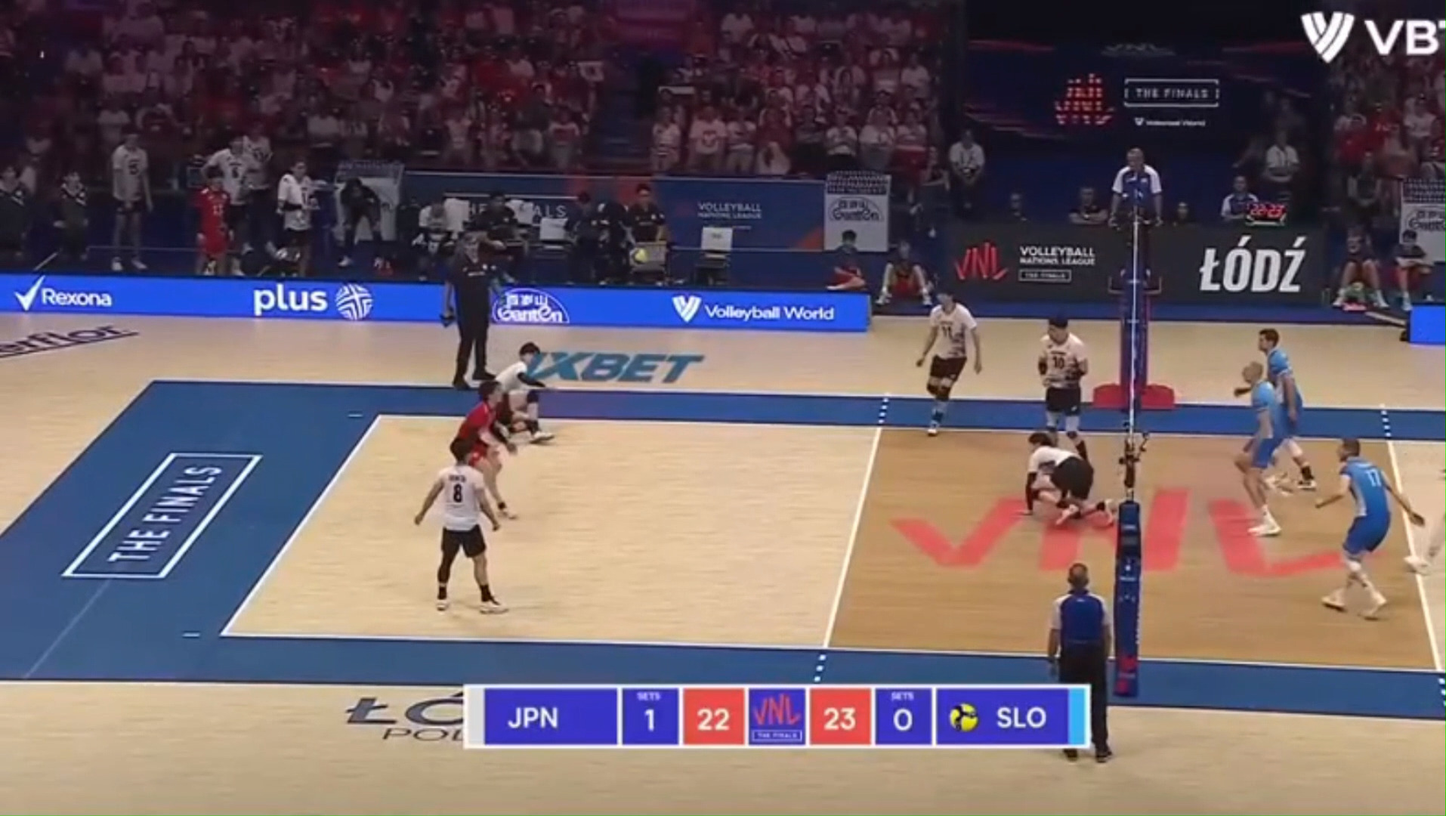ball: (631, 248, 645, 264)
player: (1315, 438, 1424, 619), (1257, 329, 1317, 490), (1236, 361, 1287, 536), (1403, 516, 1445, 575)
player 1: (414, 439, 506, 613), (916, 292, 981, 436), (454, 378, 515, 518), (1027, 431, 1109, 522), (1037, 317, 1088, 459), (493, 342, 554, 443), (456, 379, 515, 473)
referee: (1046, 562, 1112, 762), (442, 233, 502, 389), (1109, 148, 1163, 286)
